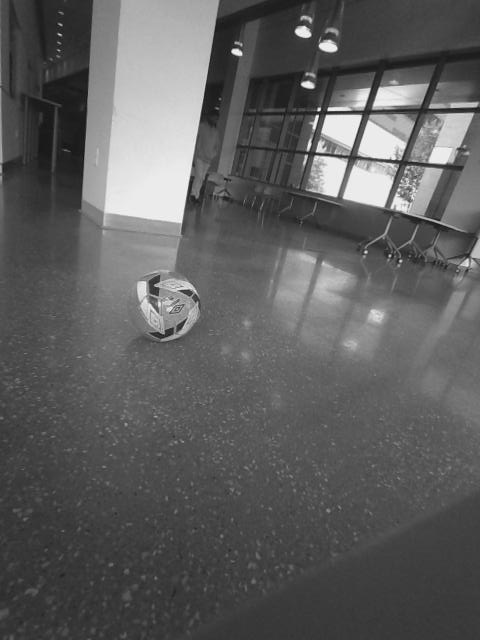ball: (125, 268, 204, 347)
